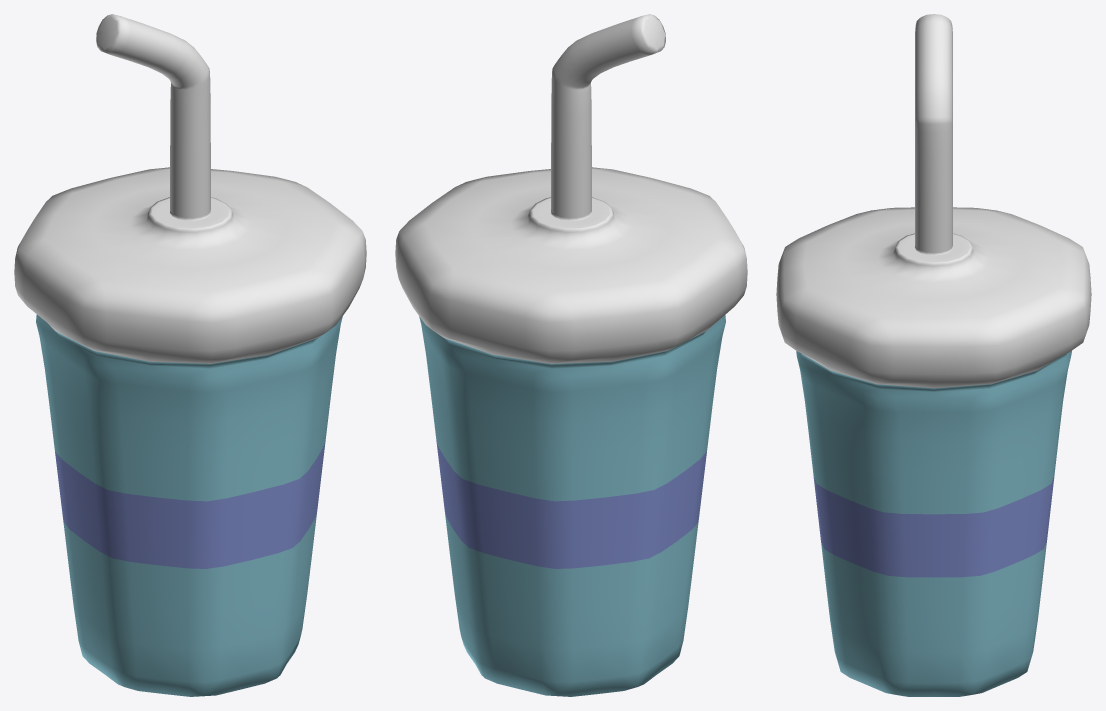
File: DA_CUP.fbx
3 renders of one model, left to right at view 1: azimuth 30°, elevation 25°; view 2: azimuth 150°, elevation 25°; view 3: azimuth 270°, elevation 25°, orthographic. The views are drawn at different scales.
Visible parts, largest first — view 1: Cup; view 2: Cup; view 3: Cup.
Boxes of the visible parts, box(x1,y1,x2,y2) form: Cup: box(14, 14, 366, 696); Cup: box(395, 14, 747, 696); Cup: box(776, 14, 1091, 696).
Bounding box in the file's own units: 160 × 345 × 160.
